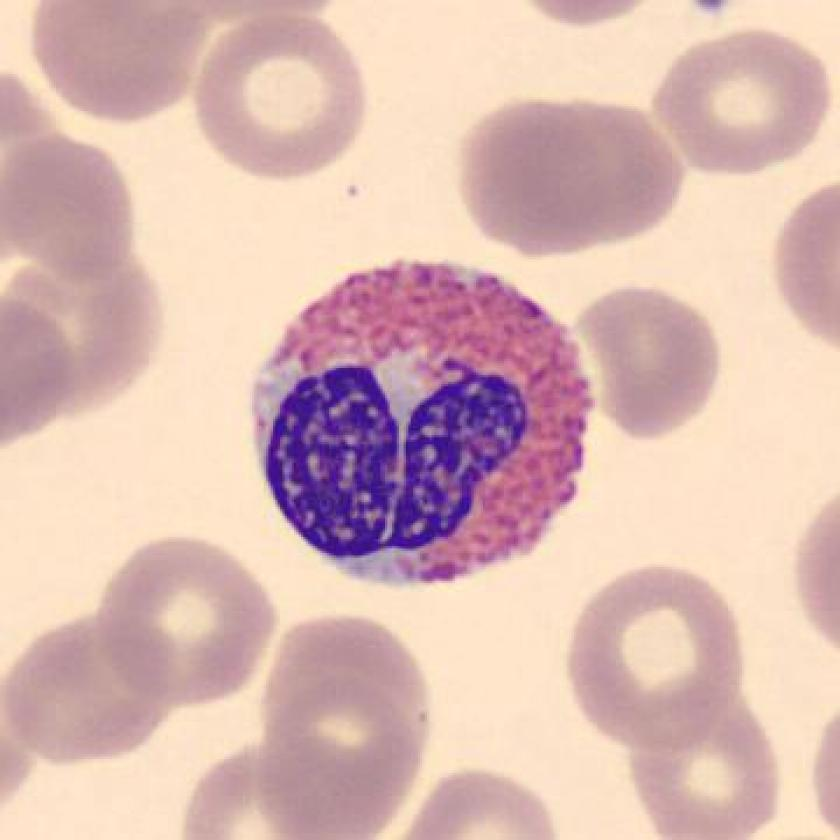eosinophil: (235, 256, 613, 598)
